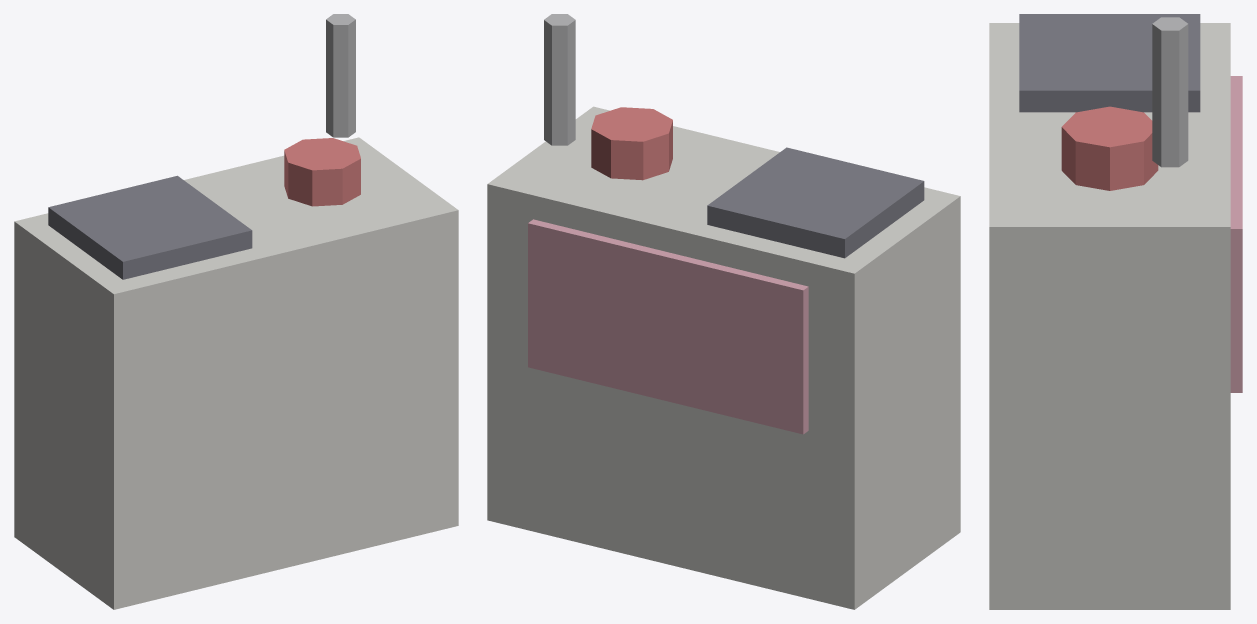
Rendered from kid_cozinha_toy.glb.
3 views of the same model, side by side, from view 1: azimuth 30°, elevation 25°; view 2: azimuth 150°, elevation 25°; view 3: azimuth 270°, elevation 25° (orthographic). The views are drawn at different scales.
Parts seen in each view (by area): view 1: KID_COZINHA_TOY_v01; view 2: KID_COZINHA_TOY_v01; view 3: KID_COZINHA_TOY_v01.
Part boxes in pixels (bbox=[...]): KID_COZINHA_TOY_v01: bbox=[14, 14, 458, 609]; KID_COZINHA_TOY_v01: bbox=[487, 14, 960, 609]; KID_COZINHA_TOY_v01: bbox=[989, 14, 1242, 609].
Size of the model in its own units: 0.8 by 1.02 by 0.42.
